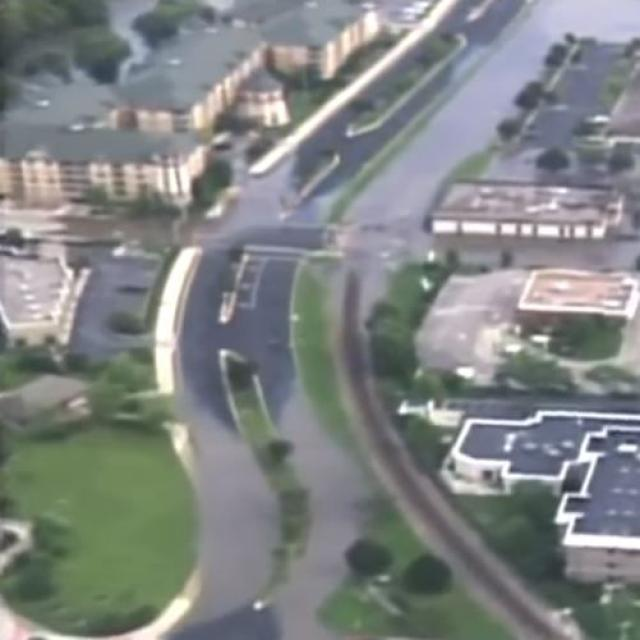flooded_areas: (349, 1, 630, 418), (0, 5, 291, 257), (155, 399, 369, 625)
